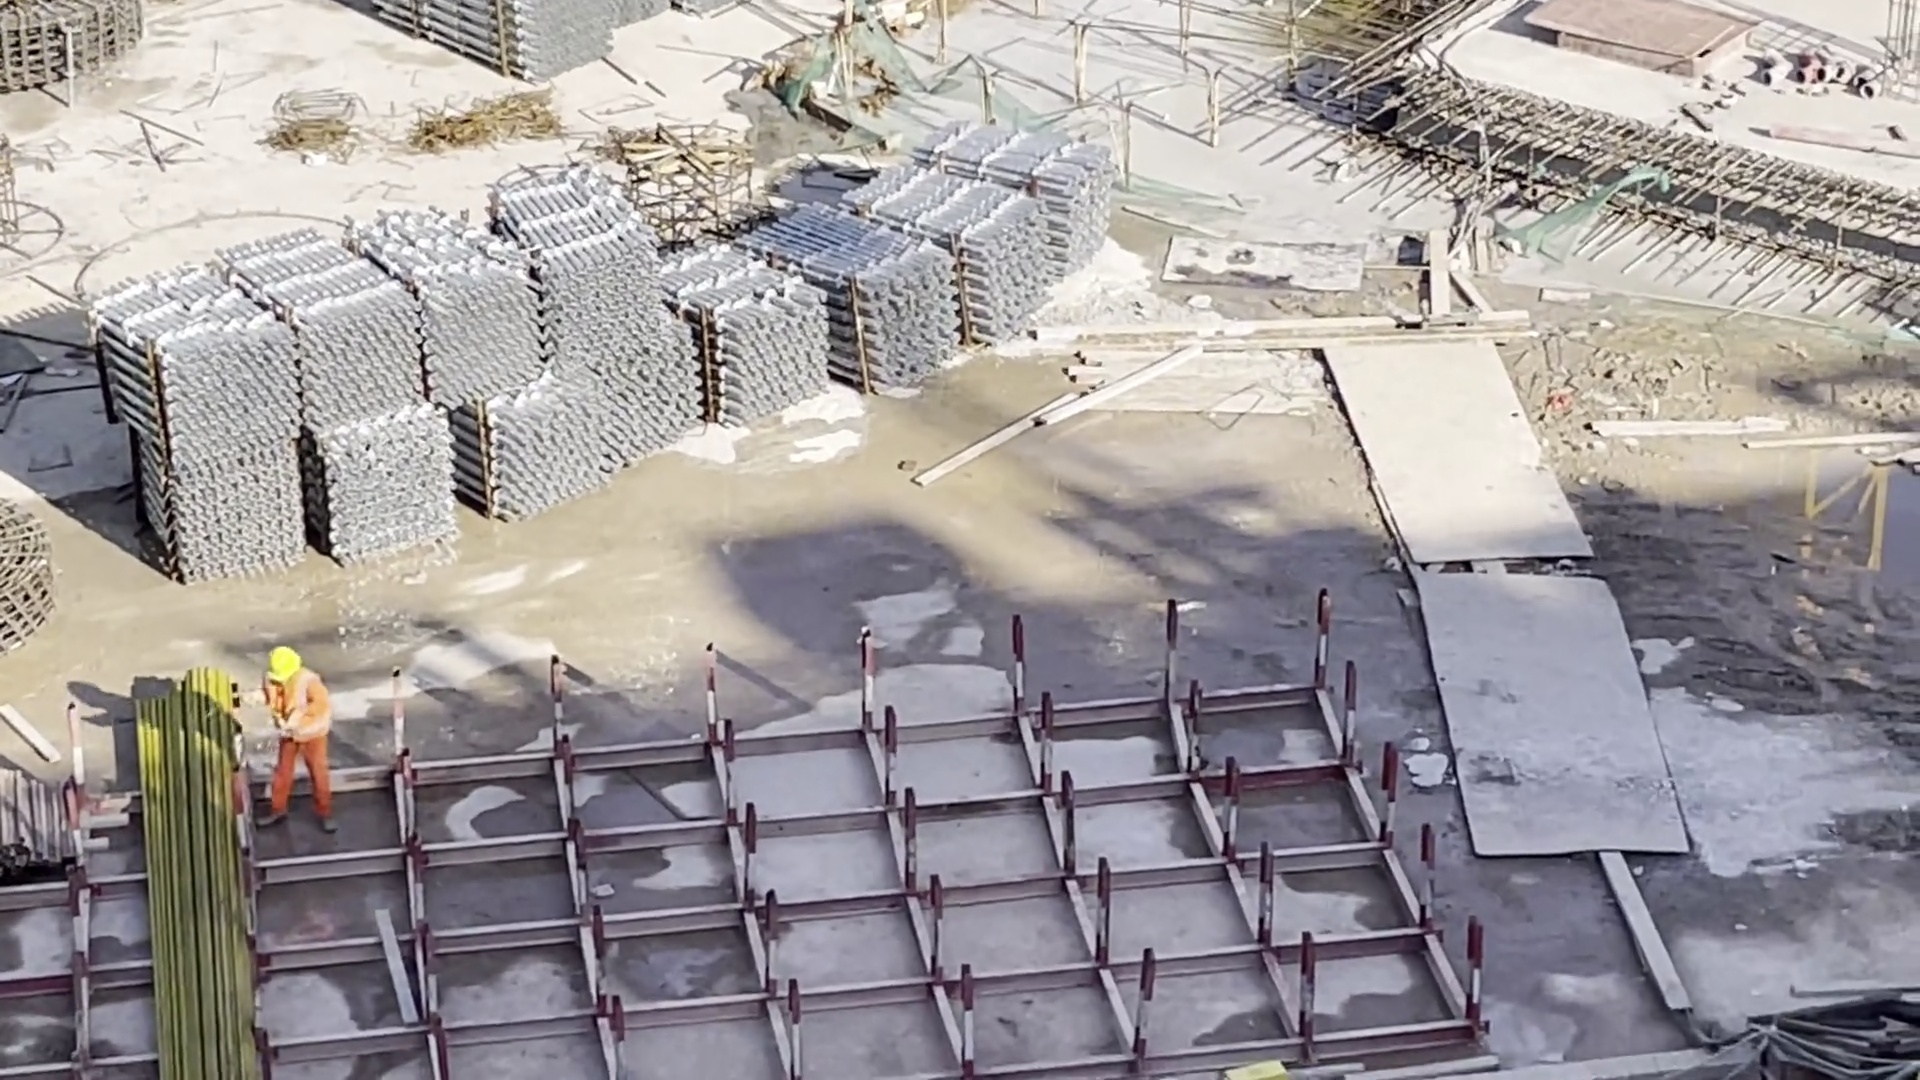board: (1523, 1, 1759, 67)
helmet: (257, 640, 322, 693)
person: (262, 643, 340, 828)
scaffold: (83, 114, 1122, 586)
vest: (265, 688, 334, 735)
